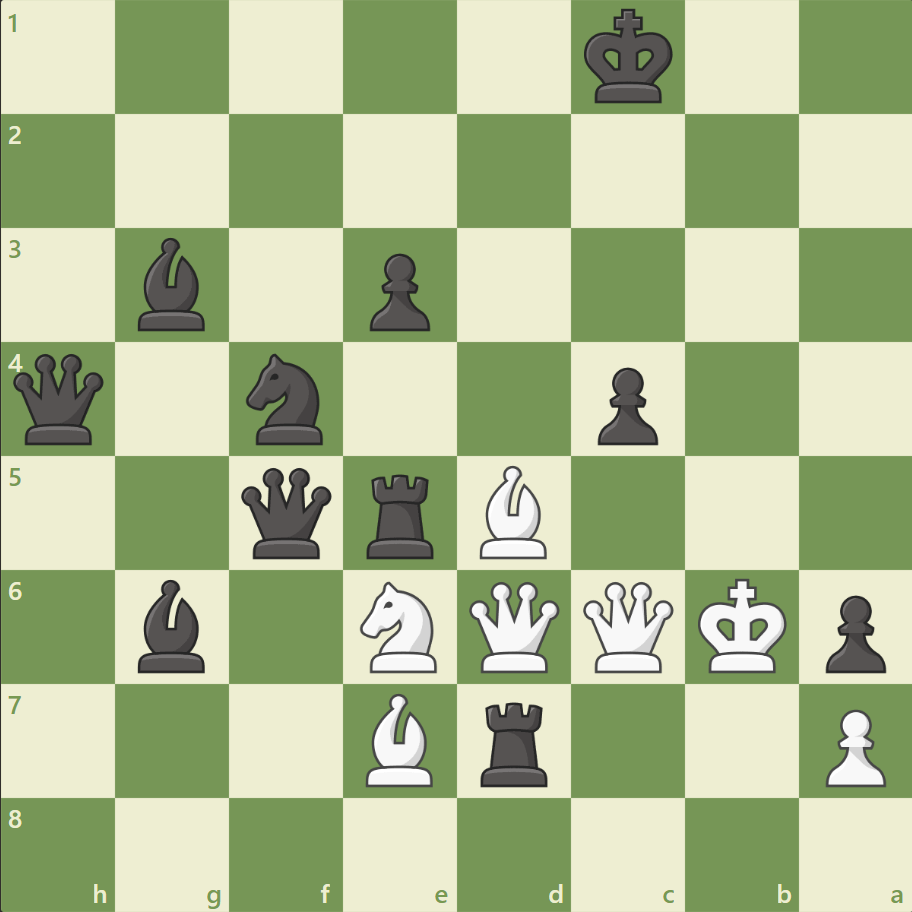B: (358, 687, 442, 790), (471, 460, 555, 563)
K: (692, 571, 792, 679)
N: (351, 575, 449, 677)
P: (815, 700, 889, 791)
Q: (578, 576, 677, 676), (464, 576, 563, 676)
b: (131, 233, 215, 336), (131, 574, 215, 676)
k: (579, 4, 679, 112)
n: (238, 348, 335, 450)
p: (815, 586, 889, 677), (588, 359, 662, 450), (361, 246, 435, 337)
q: (10, 349, 109, 449), (237, 463, 336, 562)
r: (473, 693, 556, 790), (360, 466, 442, 563)
